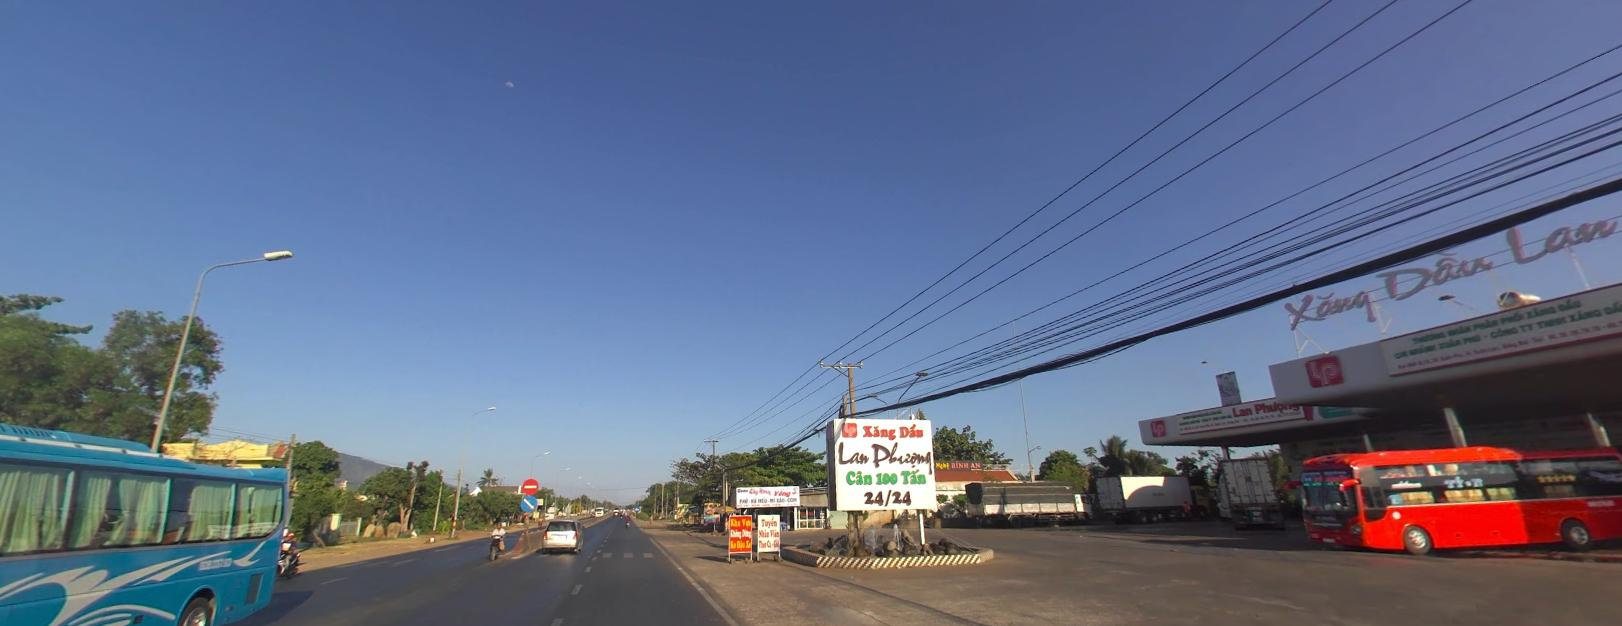Cam nguoc chieu: (522, 478, 538, 493)
Hieu lenh: (520, 495, 536, 511)
